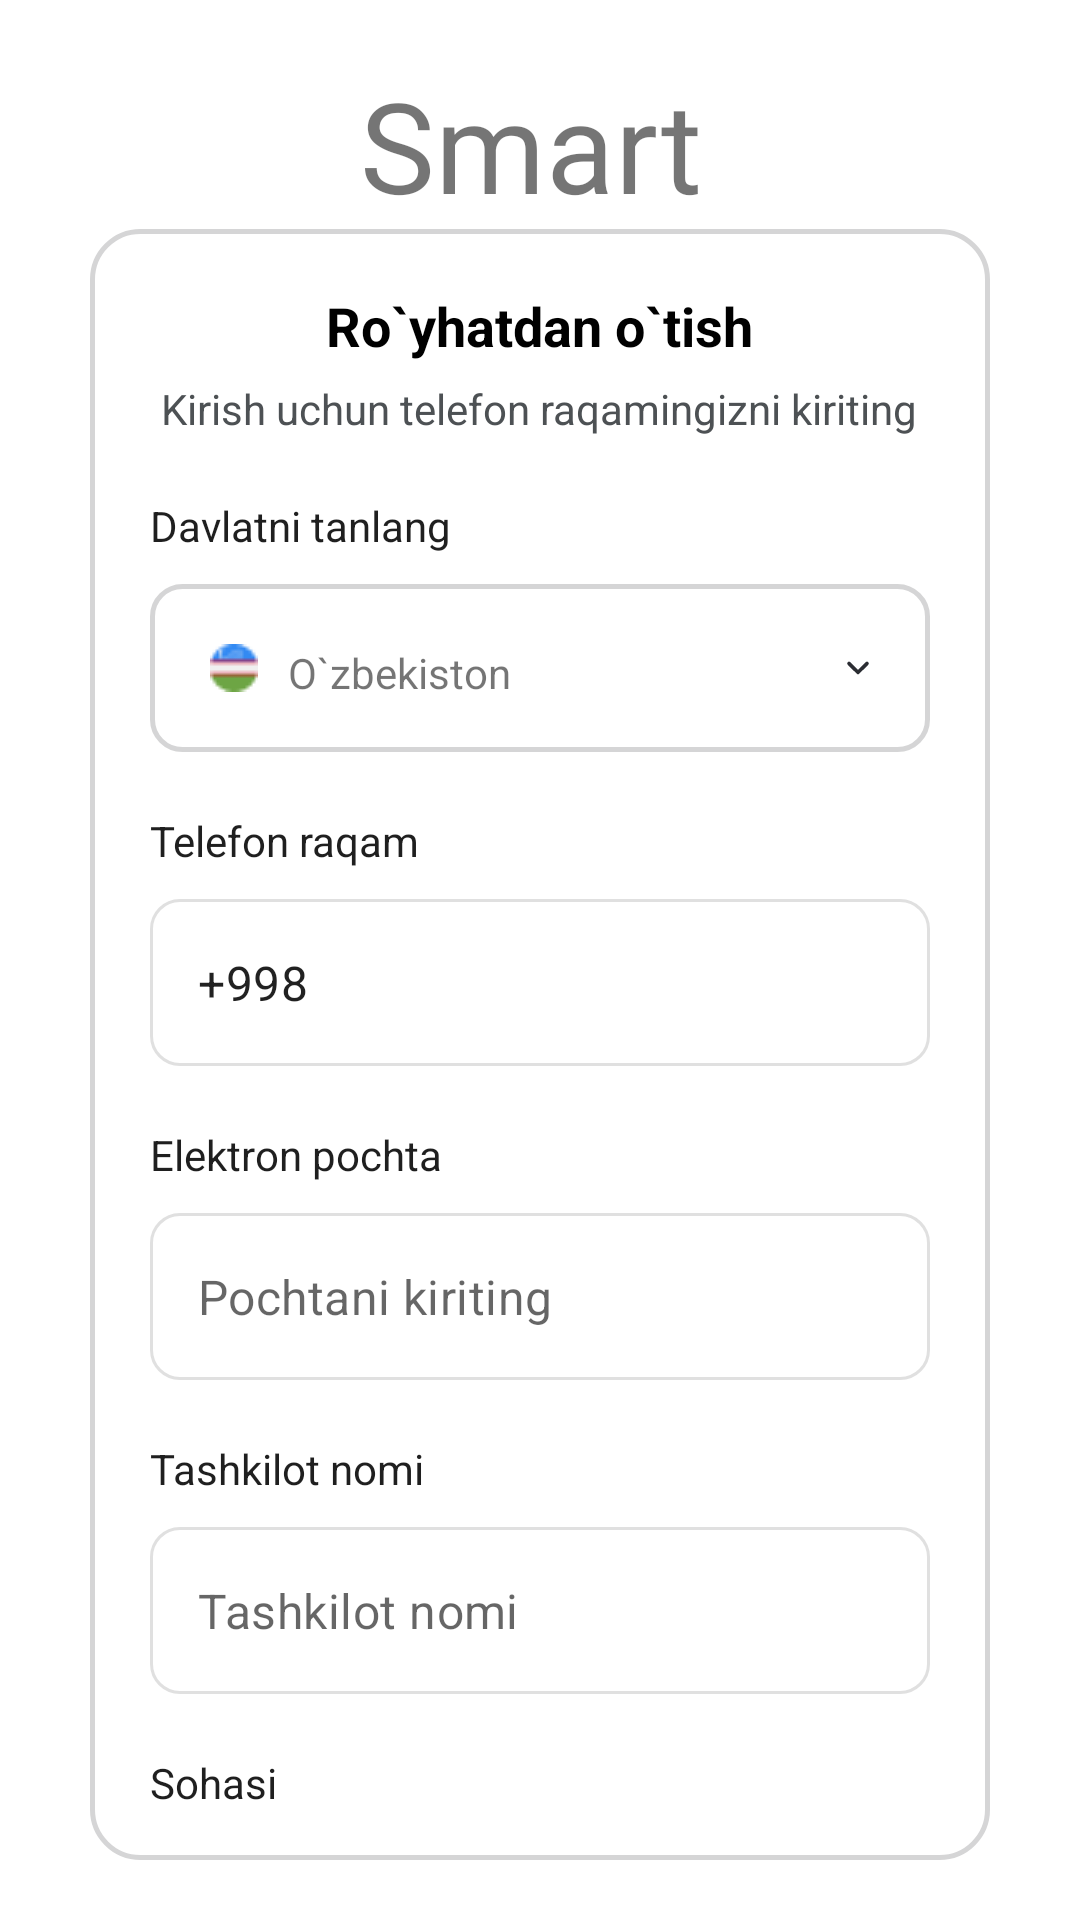

Icon bounding boxes for this 1080px×1920px phone screenshot, format (x1, y1, x2, y2):
flag uzbekistan: (210, 644, 258, 692)
